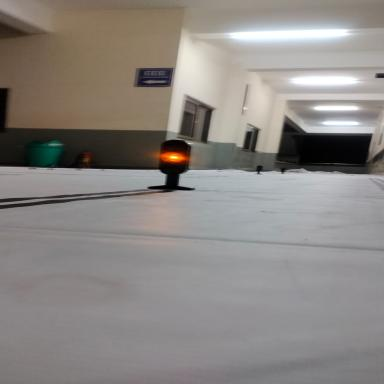yellow: (124, 132, 222, 198)
